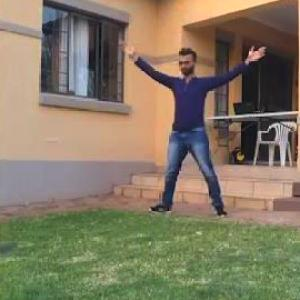takeoff: (128, 48, 262, 214)
